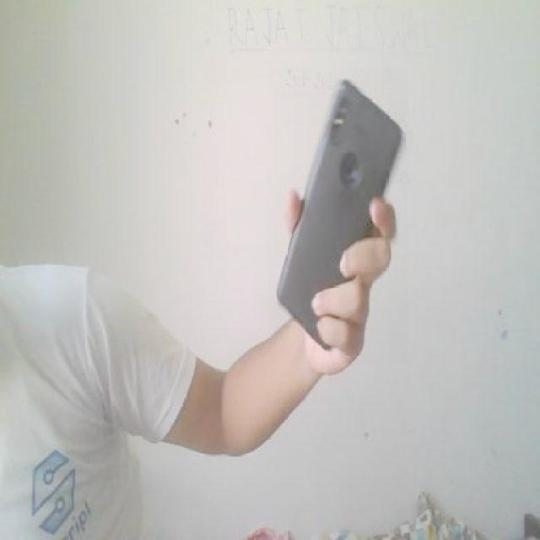phone: (270, 78, 416, 355)
